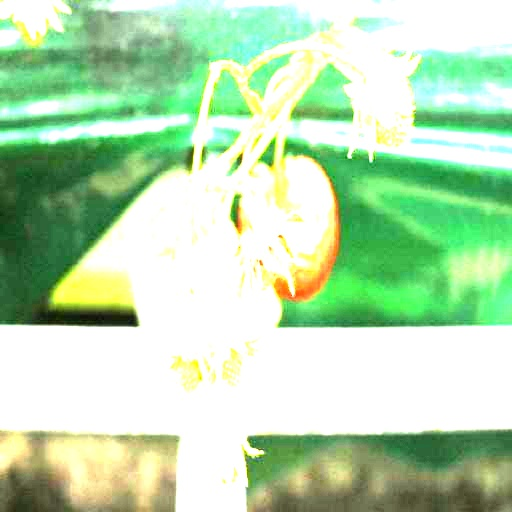Gray Mold: (223, 211, 314, 302)
